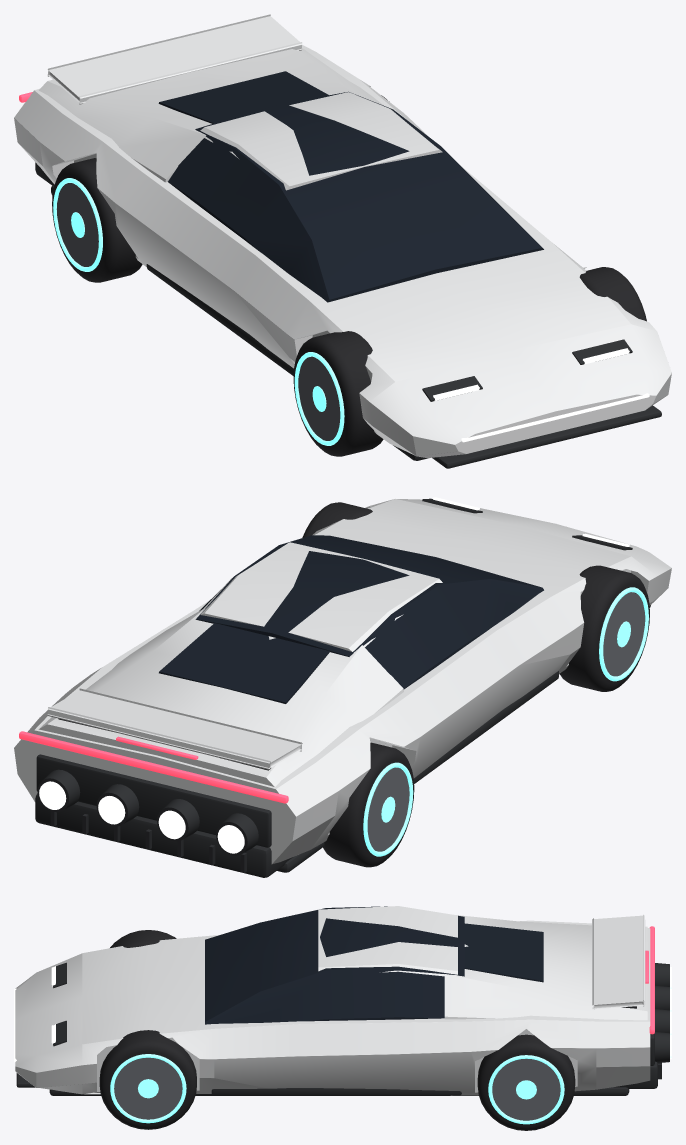
Rendered from roadster.glb.
The picture shows the model from 3 angles, top to bottom: view 1: azimuth 30°, elevation 25°; view 2: azimuth 150°, elevation 25°; view 3: azimuth 270°, elevation 25°; orthographic projection. The views are drawn at different scales.
Visible parts, largest first — view 1: Body, Canopy, Fastback, Wing, RoofPanel, Tire_FL, RearGlass, Tire_RL, Splitter, Rim_FL, Rim_RL, Tire_FR (+4 smaller); view 2: Body, Fastback, Canopy, RoofPanel, Wing, RearGlass, TailPanel, Diffuser, Tire_FL, Tire_RL, LightRear, Rim_RL (+13 smaller); view 3: Body, Canopy, Fastback, RoofPanel, Wing, RearGlass, Tire_FR, Tire_RR, Rim_FR, Rim_RR, Sill1, RimGlow_RR (+9 smaller).
Boxes of the visible parts, x1=… form: Body: x1=14, y1=45, x2=671, y2=458; Canopy: x1=168, y1=91, x2=543, y2=302; Fastback: x1=39, y1=48, x2=383, y2=182; Wing: x1=47, y1=14, x2=302, y2=104; RoofPanel: x1=200, y1=92, x2=442, y2=190; Tire_FL: x1=293, y1=331, x2=383, y2=456; RearGlass: x1=158, y1=71, x2=328, y2=123; Tire_RL: x1=52, y1=158, x2=142, y2=282; Splitter: x1=432, y1=405, x2=661, y2=468; Rim_FL: x1=298, y1=356, x2=340, y2=440; Rim_RL: x1=56, y1=183, x2=98, y2=266; Tire_FR: x1=579, y1=267, x2=646, y2=321; Body: x1=14, y1=499, x2=671, y2=864; Fastback: x1=38, y1=607, x2=403, y2=786; Canopy: x1=195, y1=535, x2=543, y2=689; RoofPanel: x1=199, y1=542, x2=442, y2=652; Wing: x1=47, y1=688, x2=302, y2=769; RearGlass: x1=159, y1=623, x2=329, y2=703; TailPanel: x1=36, y1=754, x2=271, y2=847; Diffuser: x1=35, y1=793, x2=292, y2=877; Tire_FL: x1=560, y1=565, x2=649, y2=691; Tire_RL: x1=323, y1=742, x2=414, y2=867; LightRear: x1=19, y1=731, x2=288, y2=803; Rim_RL: x1=367, y1=767, x2=409, y2=851; Body: x1=15, y1=920, x2=650, y2=1095; Canopy: x1=205, y1=906, x2=464, y2=1024; Fastback: x1=444, y1=915, x2=647, y2=1020; RoofPanel: x1=318, y1=906, x2=457, y2=976; Wing: x1=592, y1=914, x2=645, y2=1009; RearGlass: x1=464, y1=923, x2=543, y2=982; Tire_FR: x1=99, y1=1030, x2=196, y2=1129; Tire_RR: x1=477, y1=1034, x2=575, y2=1130; Rim_FR: x1=114, y1=1057, x2=182, y2=1119; Rim_RR: x1=492, y1=1058, x2=560, y2=1120; Sill1: x1=211, y1=1088, x2=461, y2=1095; RimGlow_RR: x1=488, y1=1055, x2=564, y2=1124.
Size of the model in its own units: 2.18 by 1.18 by 4.99.
